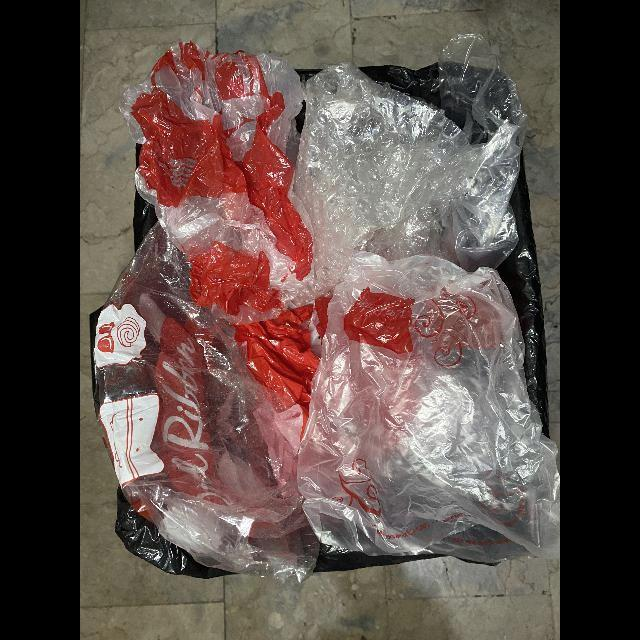plastic_bag: (297, 254, 560, 563), (94, 223, 319, 582), (122, 43, 315, 324)
